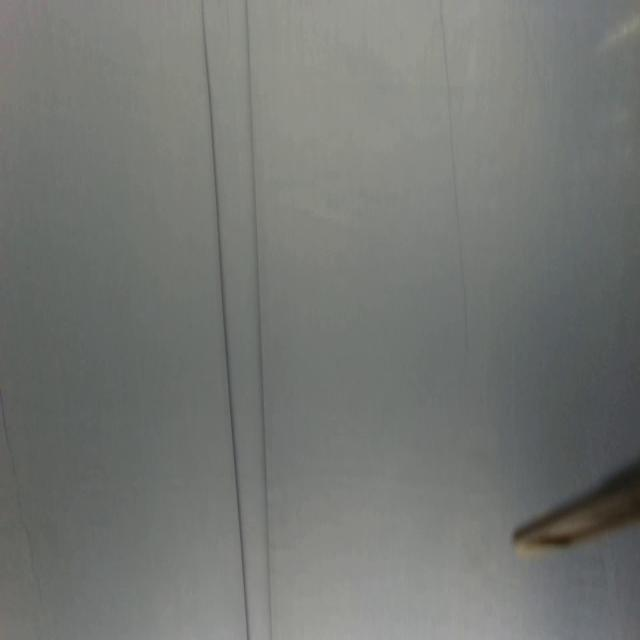crease: (200, 0, 252, 640), (241, 0, 274, 639), (0, 385, 53, 640), (436, 0, 470, 348)
